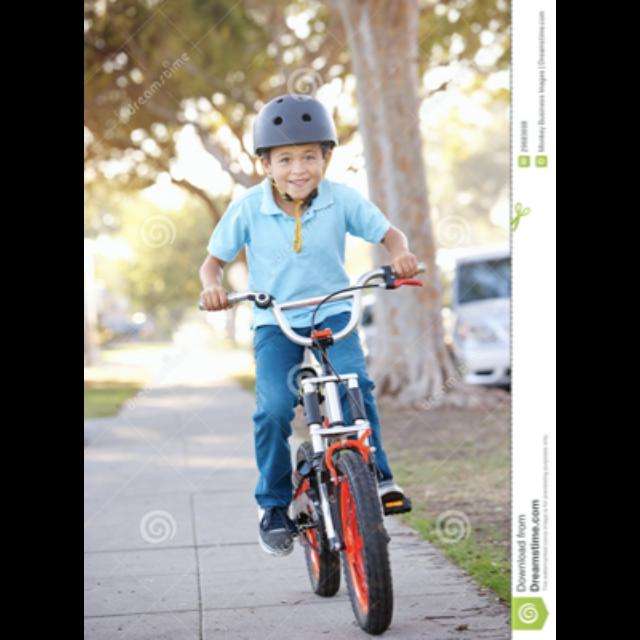With Helmet: (242, 90, 342, 200)
